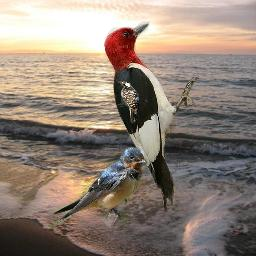Swallow: (47, 147, 147, 231)
Woodpecker: (102, 20, 199, 210), (118, 81, 139, 123)
